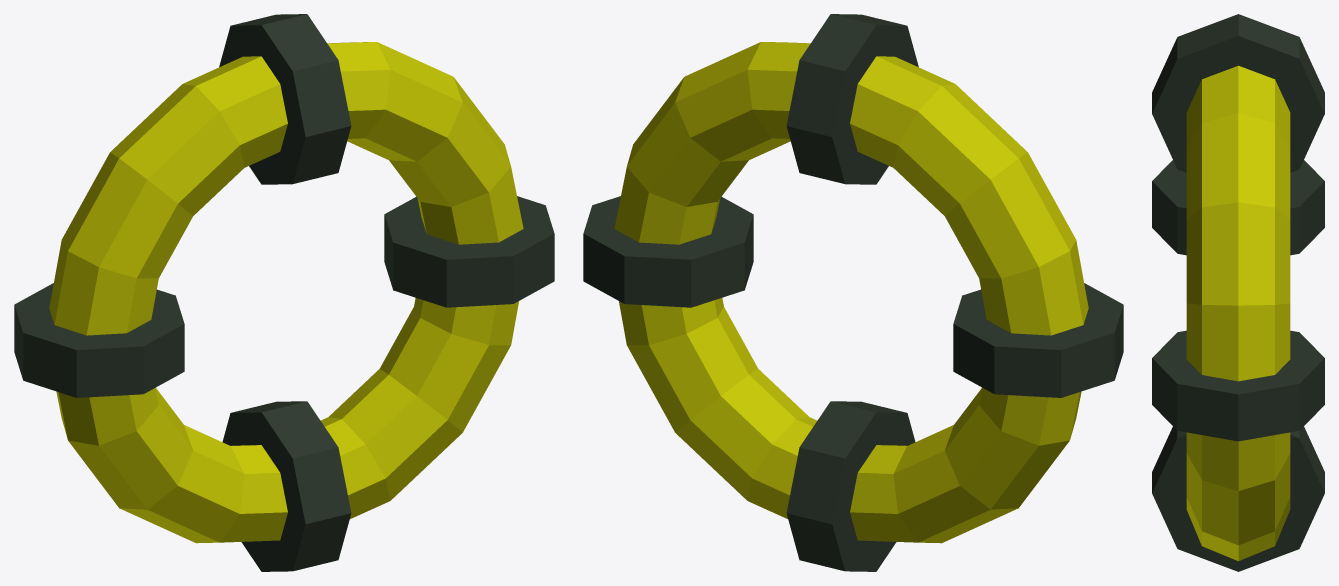
File: yellow_core.gltf
3 views of the same model, side by side, from view 1: azimuth 30°, elevation 25°; view 2: azimuth 150°, elevation 25°; view 3: azimuth 270°, elevation 25° (orthographic). The views are drawn at different scales.
Visible parts, largest first — view 1: Torus.001; view 2: Torus.001; view 3: Torus.001.
Boxes of the visible parts, x1,y1,x2,y2 form: Torus.001: (14, 14, 554, 571); Torus.001: (583, 14, 1123, 571); Torus.001: (1152, 14, 1324, 571).
Bounding box in the file's own units: 0.3425 × 0.3425 × 0.1.
